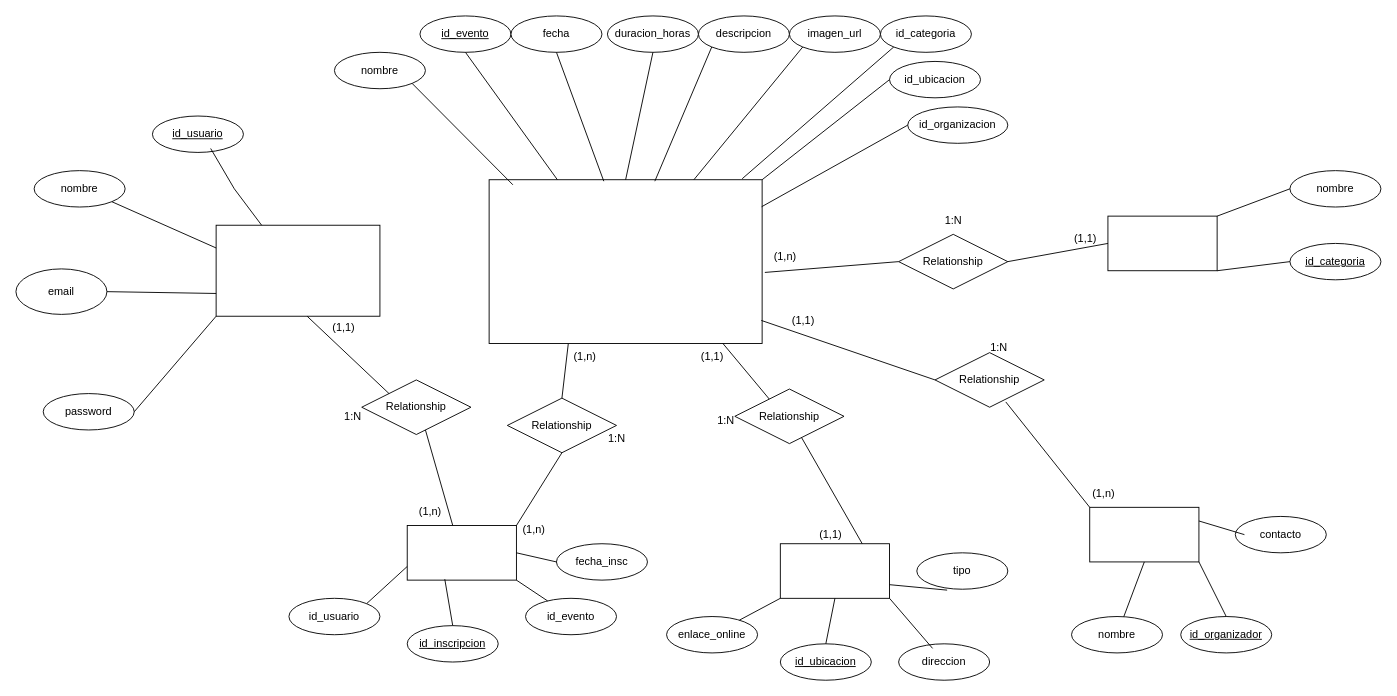
This 1397x696 diagram has some shape labels left out. Each missing label, with the centre of its shape:
categoria: point 1162,243
Evento: point 625,261
inscripcion: point 461,552
Organizador: point 1144,534
ubicacion: point 834,570
Usuario: point 297,270
